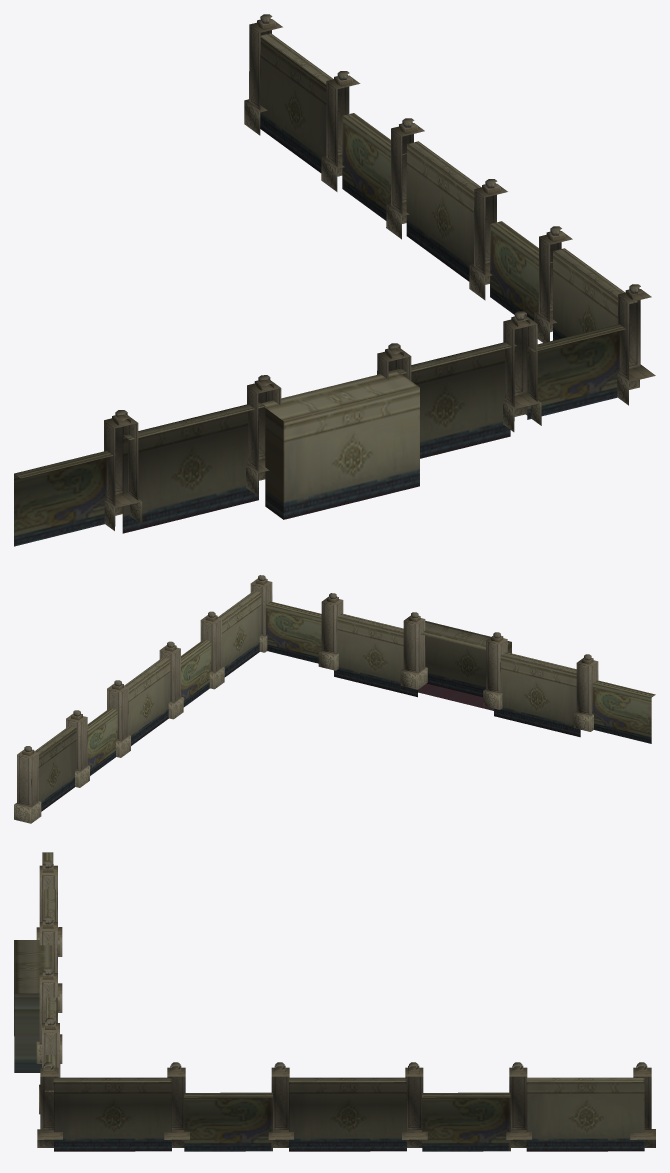
File: 1v1_01_wall_01.FBX
The picture shows the model from 3 angles, top to bottom: view 1: azimuth 30°, elevation 25°; view 2: azimuth 150°, elevation 25°; view 3: azimuth 270°, elevation 25°; orthographic projection. The views are drawn at different scales.
Visible parts, largest first — view 1: wall (×2); view 2: wall (×2); view 3: wall (×2).
Part boxes in pixels (left/top/right/bottom): wall (×2): left=14, top=14, right=655, bottom=546; wall (×2): left=14, top=575, right=655, bottom=823; wall (×2): left=14, top=852, right=655, bottom=1151.
Size of the model in its own units: 103 by 19.73 by 113.
